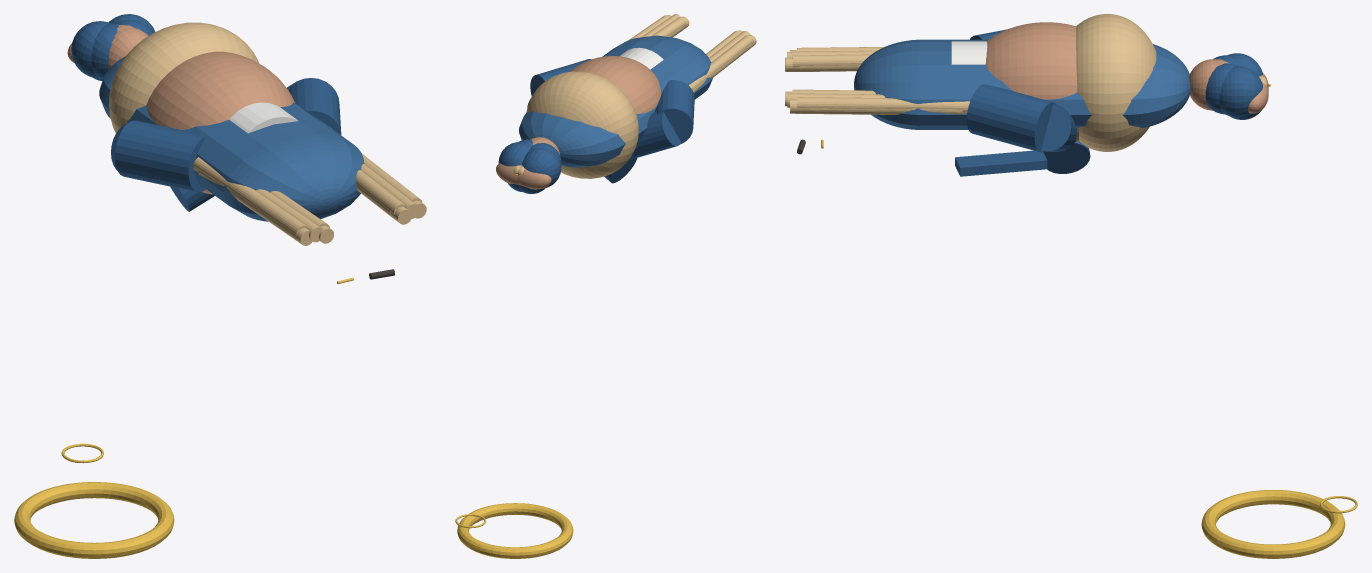
Rendered from JIA_02_Character3D_Base.glb.
3 renders of one model, left to right at view 1: azimuth 30°, elevation 25°; view 2: azimuth 150°, elevation 25°; view 3: azimuth 270°, elevation 25°, orthographic. The views are drawn at different scales.
Visible parts, largest first — view 1: Torso, Head, HairCap, Headband, ArmL_Upper, ArmR_Upper, Shirt, Braid_-1_5_0, ArmL_Upper_b, ArmL_Upper_a, Neck_b, Braid_1_3_0 (+3 smaller); view 2: Torso, HairCap, Headband, Head, ArmL_Upper, ArmL_Fore, ArmL_Upper_b, Braid_-1_5_0, Shirt, HandR, ArmR_Upper; view 3: Torso, HairCap, Head, Headband, ArmR_Upper, JacketLapels, ArmR_Upper_b, Braid_1_5_0, ArmR_Fore, ArmL_Fore, Neck_b, Shirt (+3 smaller).
Boxes of the visible parts, box(x1,y1,x2,y2) form: Torso: box(99, 56, 364, 221); Head: box(146, 51, 294, 194); HairCap: box(109, 22, 259, 132); Headband: box(14, 482, 174, 558); ArmL_Upper: box(115, 120, 205, 192); ArmR_Upper: box(289, 78, 341, 134); Shirt: box(229, 102, 298, 133); Braid_-1_5_0: box(228, 182, 306, 234); ArmL_Upper_b: box(71, 21, 110, 78); ArmL_Upper_a: box(91, 23, 118, 79); Neck_b: box(108, 27, 147, 69); Braid_1_3_0: box(356, 170, 405, 214); Torso: box(519, 35, 712, 167); HairCap: box(526, 71, 638, 178); Headband: box(457, 503, 573, 558); Head: box(570, 56, 660, 113); ArmL_Upper: box(655, 80, 694, 143); ArmL_Fore: box(629, 112, 681, 159); ArmL_Upper_b: box(524, 147, 561, 188); Braid_-1_5_0: box(707, 35, 753, 76); Shirt: box(620, 47, 663, 69); HandR: box(517, 165, 551, 189); ArmR_Upper: box(530, 59, 591, 96); Torso: box(854, 39, 1190, 129); HairCap: box(1076, 14, 1156, 151); Head: box(985, 22, 1079, 141); Headband: box(1201, 490, 1345, 558); ArmR_Upper: box(966, 84, 1056, 152); JacketLapels: box(955, 150, 1047, 176); ArmR_Upper_b: box(1219, 66, 1260, 117); Braid_1_5_0: box(797, 97, 914, 108); ArmR_Fore: box(1041, 104, 1076, 151); ArmL_Fore: box(1043, 141, 1090, 173); Neck_b: box(1189, 59, 1216, 110); Shirt: box(951, 41, 987, 64).
Bounding box in the file's own units: 1.44 × 3.48 × 3.54.
